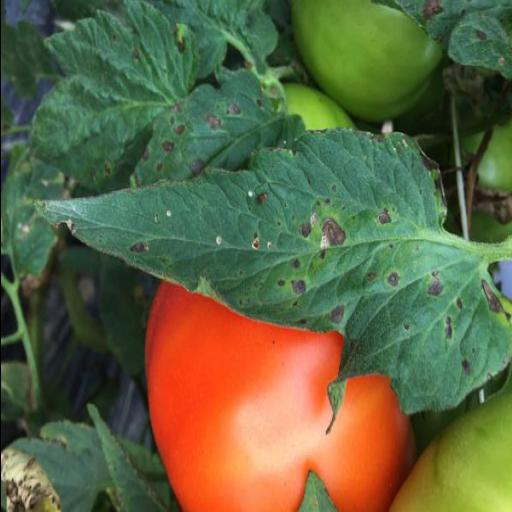Early Blight: (38, 127, 512, 421)
